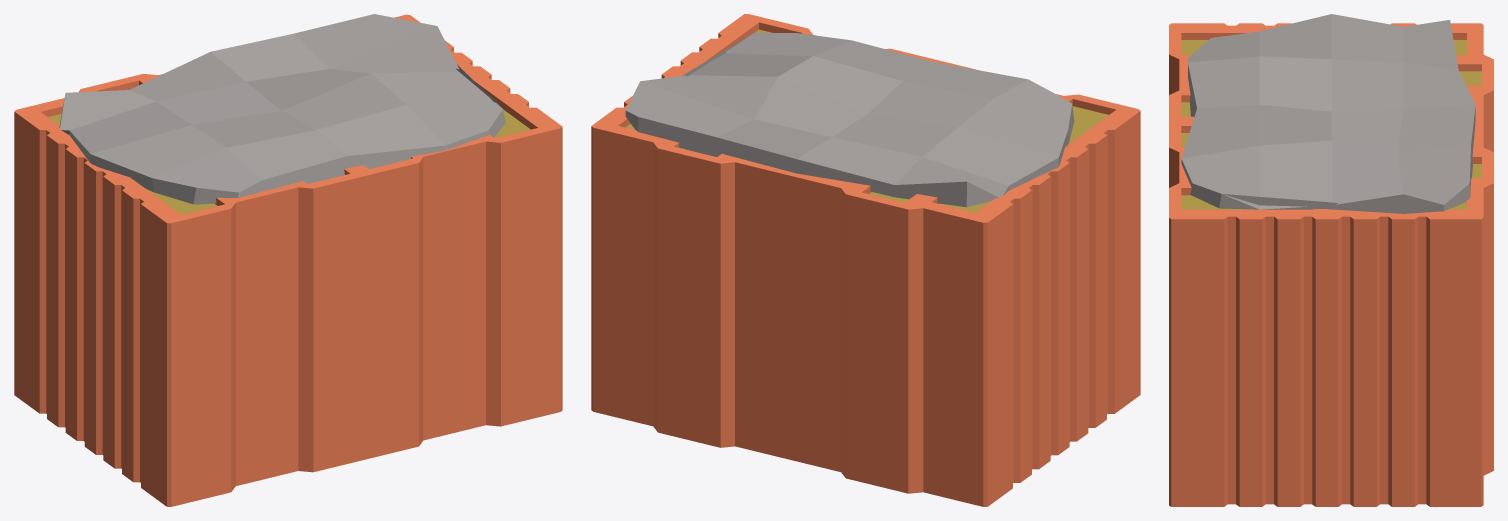
3 renders of one model, left to right at view 1: azimuth 30°, elevation 25°; view 2: azimuth 150°, elevation 25°; view 3: azimuth 270°, elevation 25°, orthographic.
Visible parts, largest first — view 1: Außenziegel template.002, mörtel; view 2: Außenziegel template.002, mörtel; view 3: Außenziegel template.002, mörtel.
Boxes of the visible parts, <box> form: Außenziegel template.002: <box>14,14,562,506</box>; mörtel: <box>59,14,505,204</box>; Außenziegel template.002: <box>591,14,1140,506</box>; mörtel: <box>625,32,1074,207</box>; Außenziegel template.002: <box>1169,23,1493,506</box>; mörtel: <box>1181,14,1475,213</box>.
Size of the model in its own units: 0.365 by 0.27 by 0.2559.
